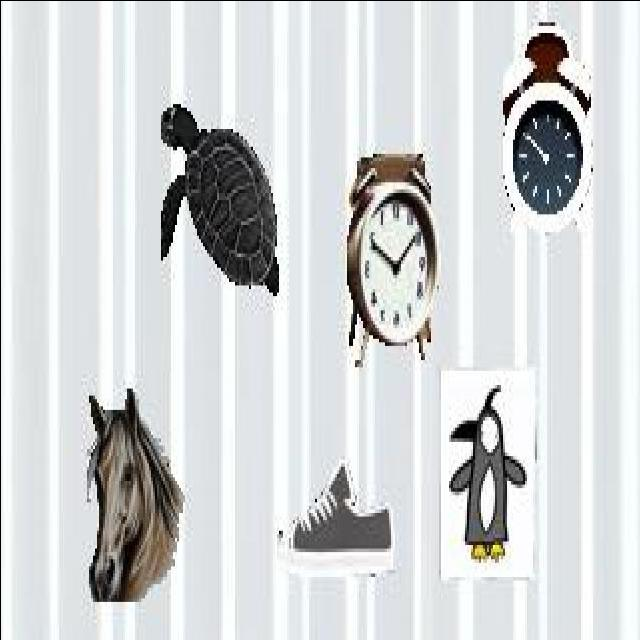Other Objects: (346, 148, 442, 364), (500, 17, 591, 234)
